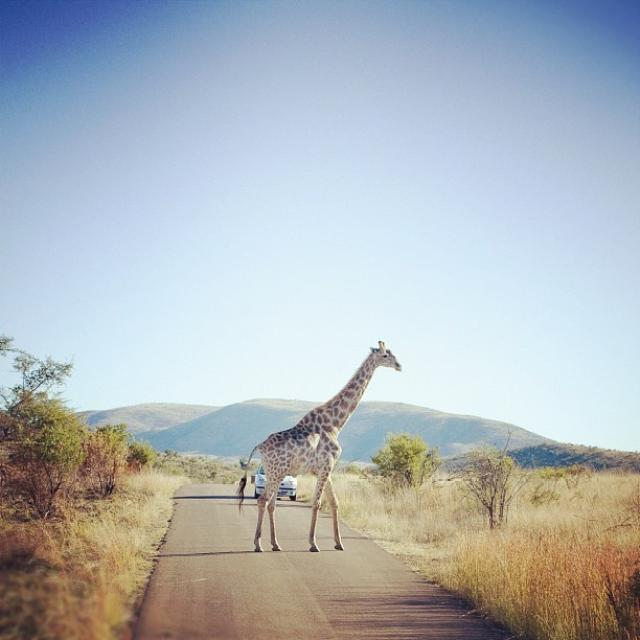Vehicle: (253, 464, 297, 500)
